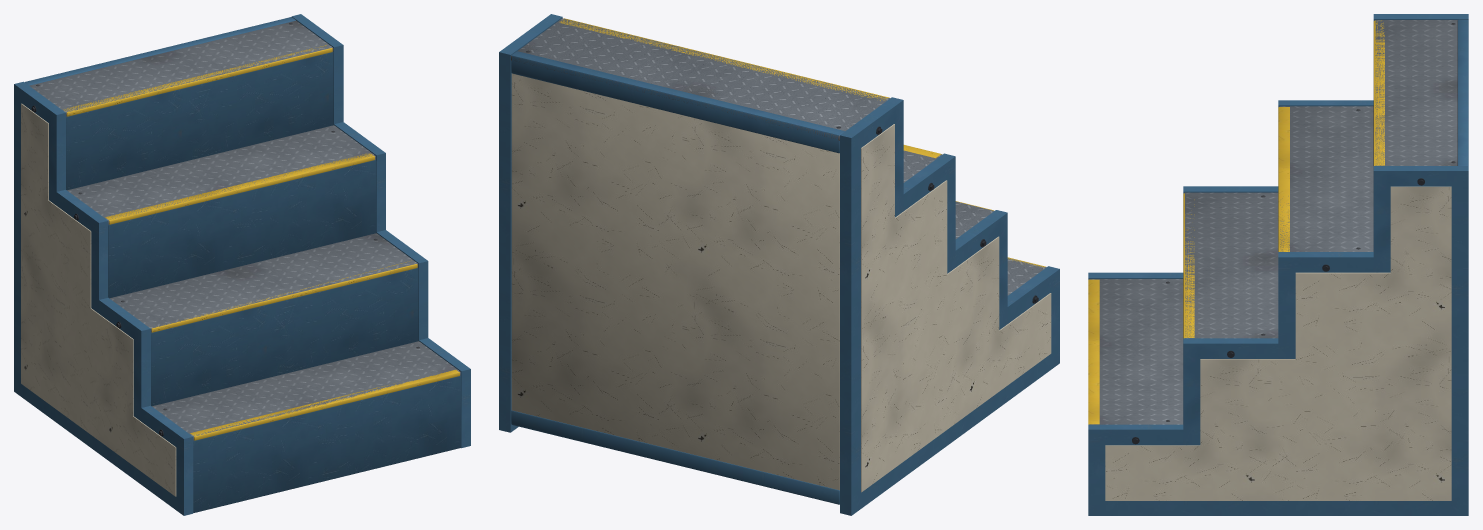
The model's file is stairs_block.glb.
The picture shows the model from 3 angles, left to right: view 1: azimuth 30°, elevation 25°; view 2: azimuth 150°, elevation 25°; view 3: azimuth 270°, elevation 25°; orthographic projection. The views are drawn at different scales.
Visible parts, largest first — view 1: StairsBlockBody; view 2: StairsBlockBody; view 3: StairsBlockBody.
Part boxes in pixels (left/top/right/bottom): StairsBlockBody: left=14, top=14, right=470, bottom=515; StairsBlockBody: left=499, top=14, right=1059, bottom=515; StairsBlockBody: left=1088, top=14, right=1468, bottom=515.
Size of the model in its own units: 0.9948 by 1 by 1.
Materials: 7 (7 with a texture image).
